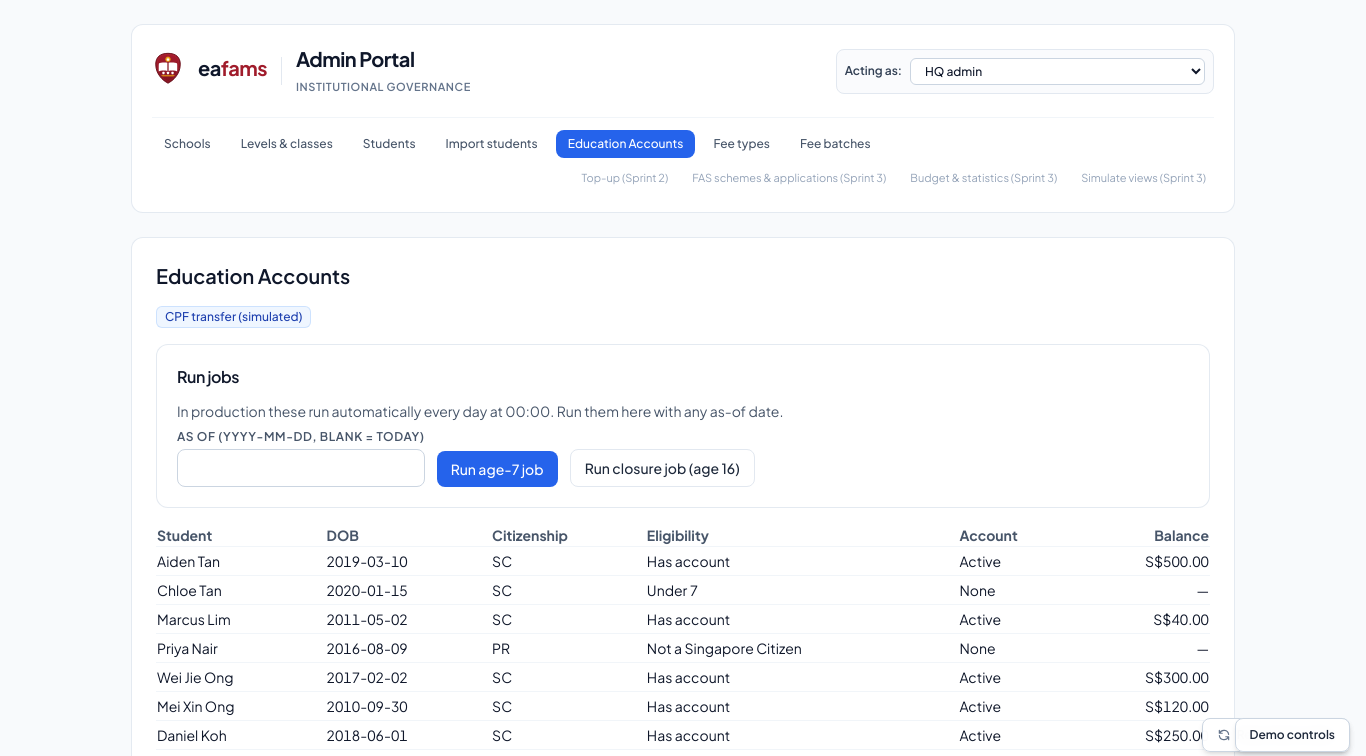
Test: running the age-7 job creates the account and a rerun creates nothing
The image size is (1366, 756).
Click the button "Run age-7 job" at (497, 469), box [437,451,558,487]
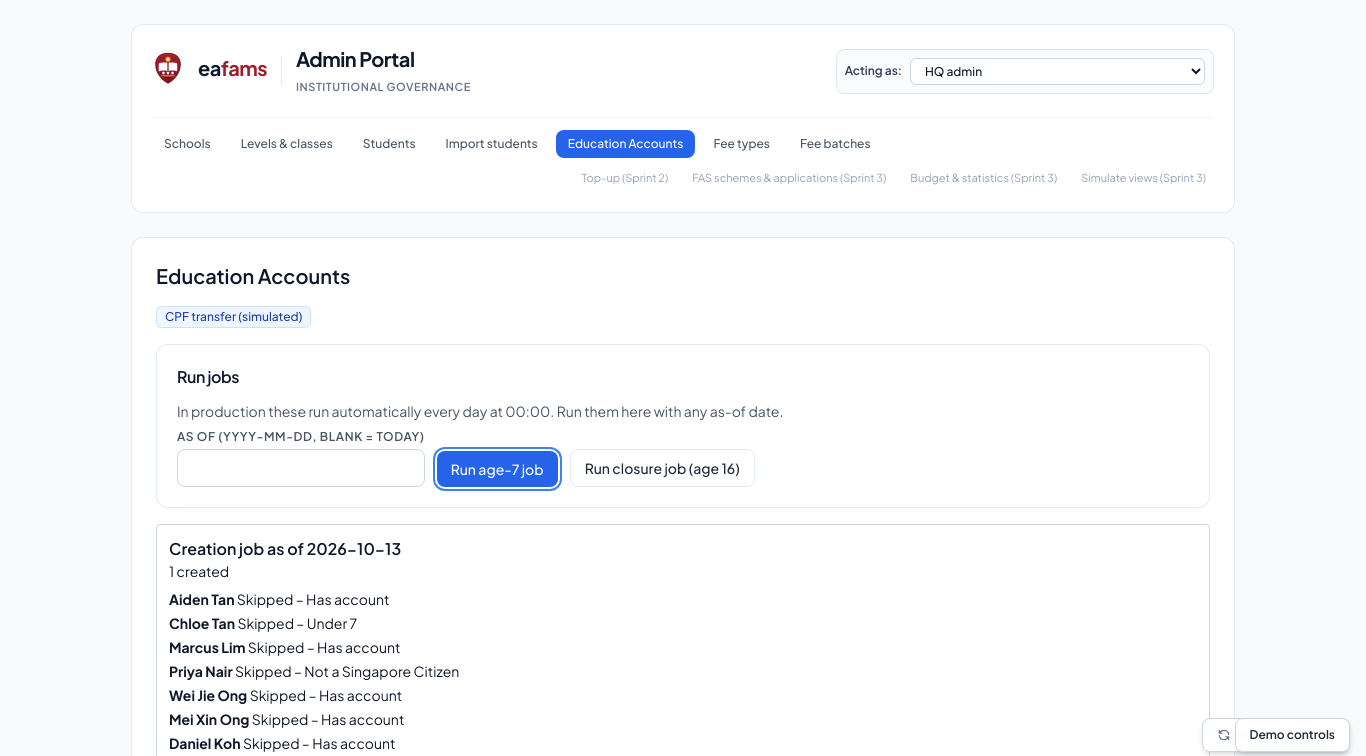
Click the button "Run age-7 job" at (497, 469), box [437,451,558,487]
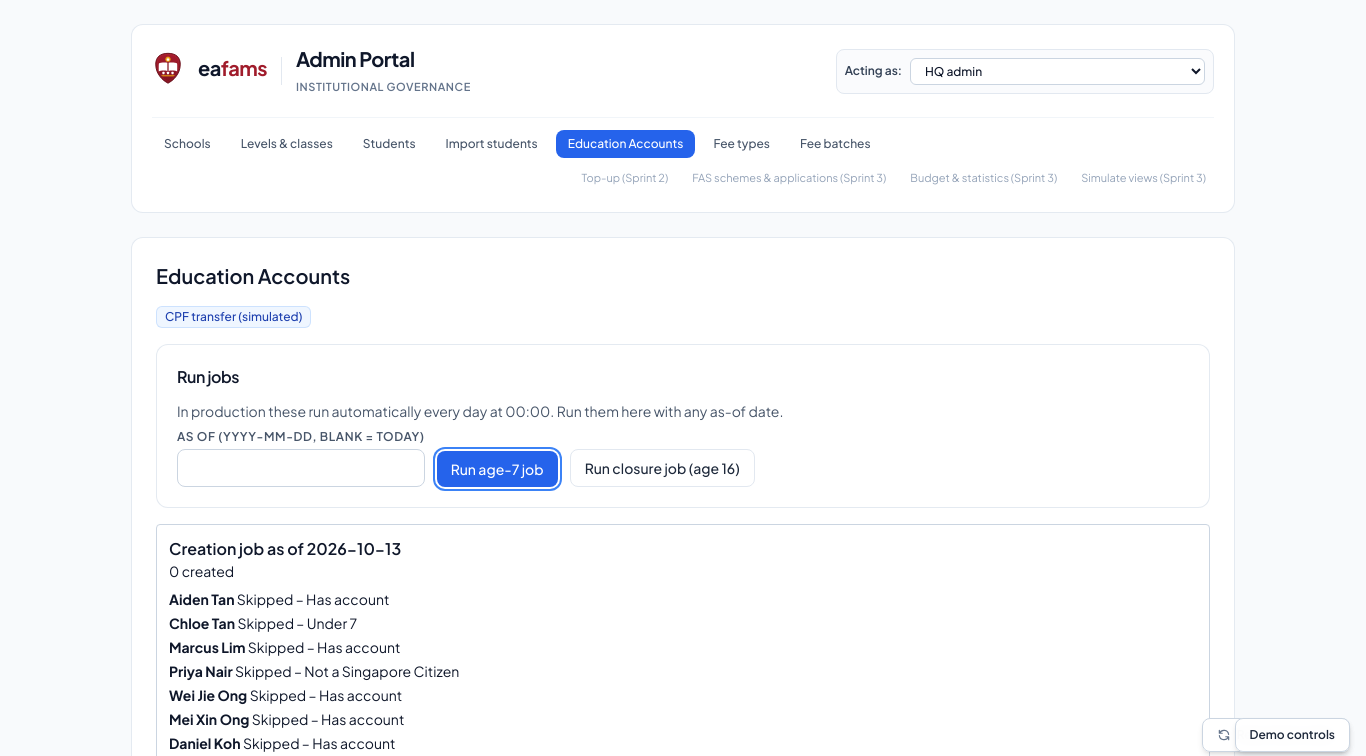
Check: the text "0 created" is shown, box [169,562,234,580]
